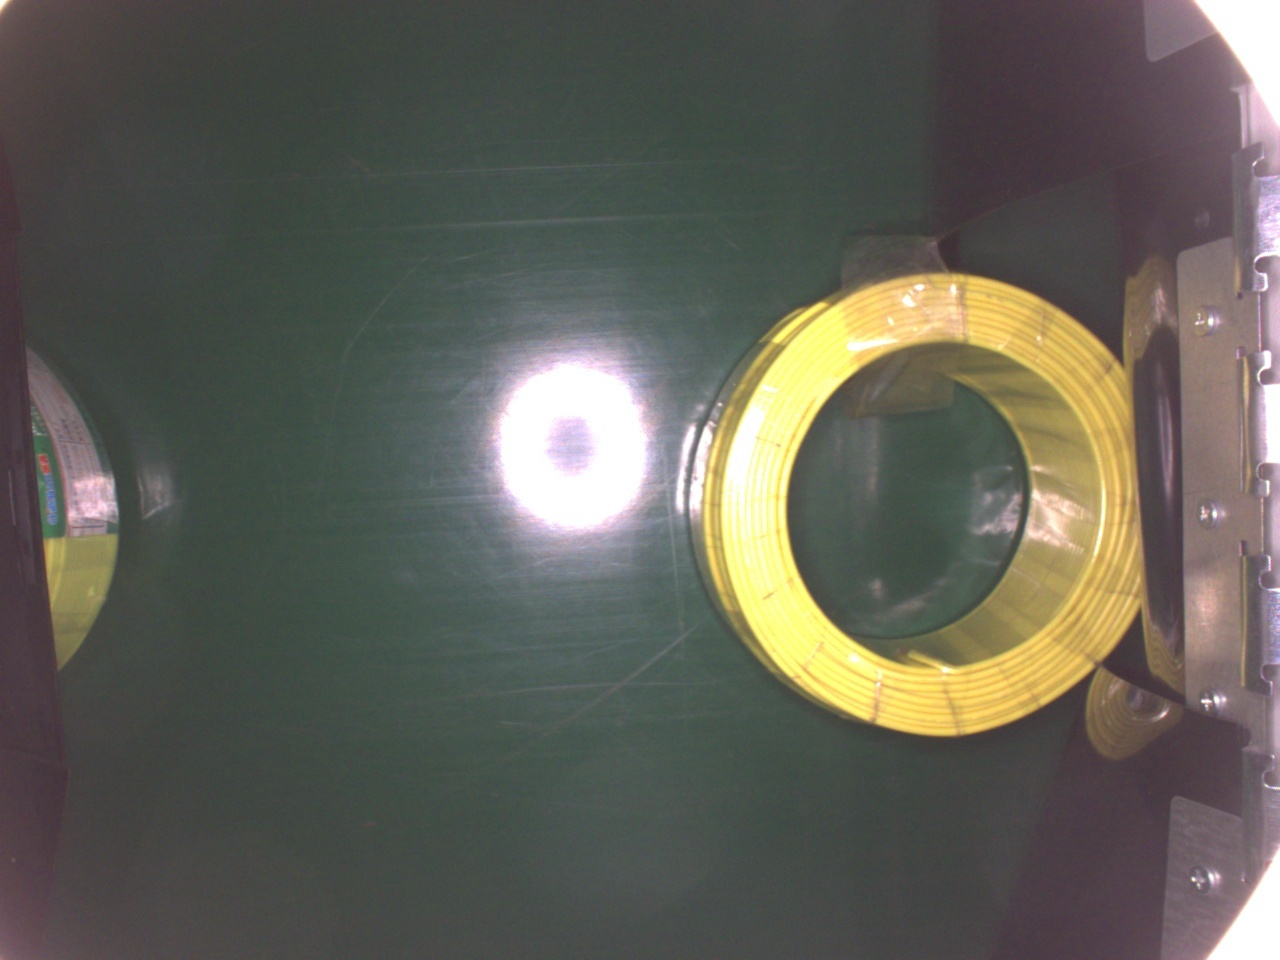yellow: (678, 258, 1142, 737)
